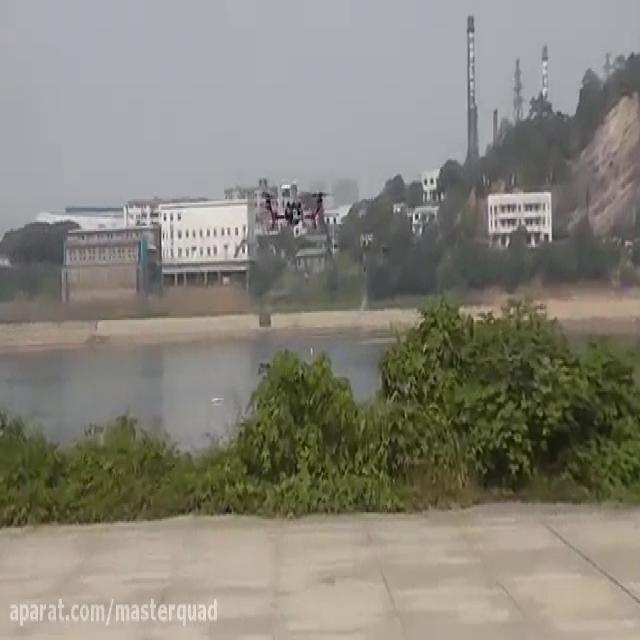drone: (255, 178, 335, 235)
